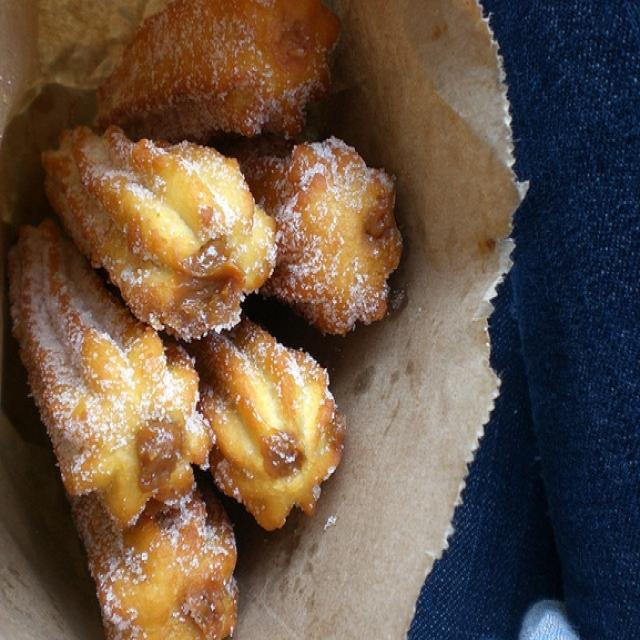炸货点心: (31, 31, 566, 631)
